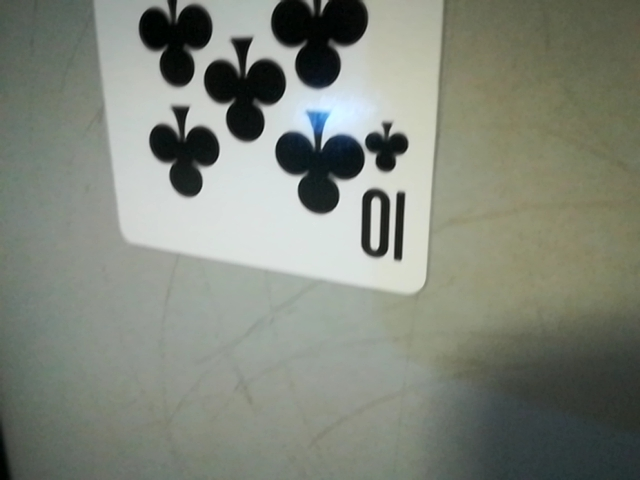mh 10: (358, 114, 424, 278)
